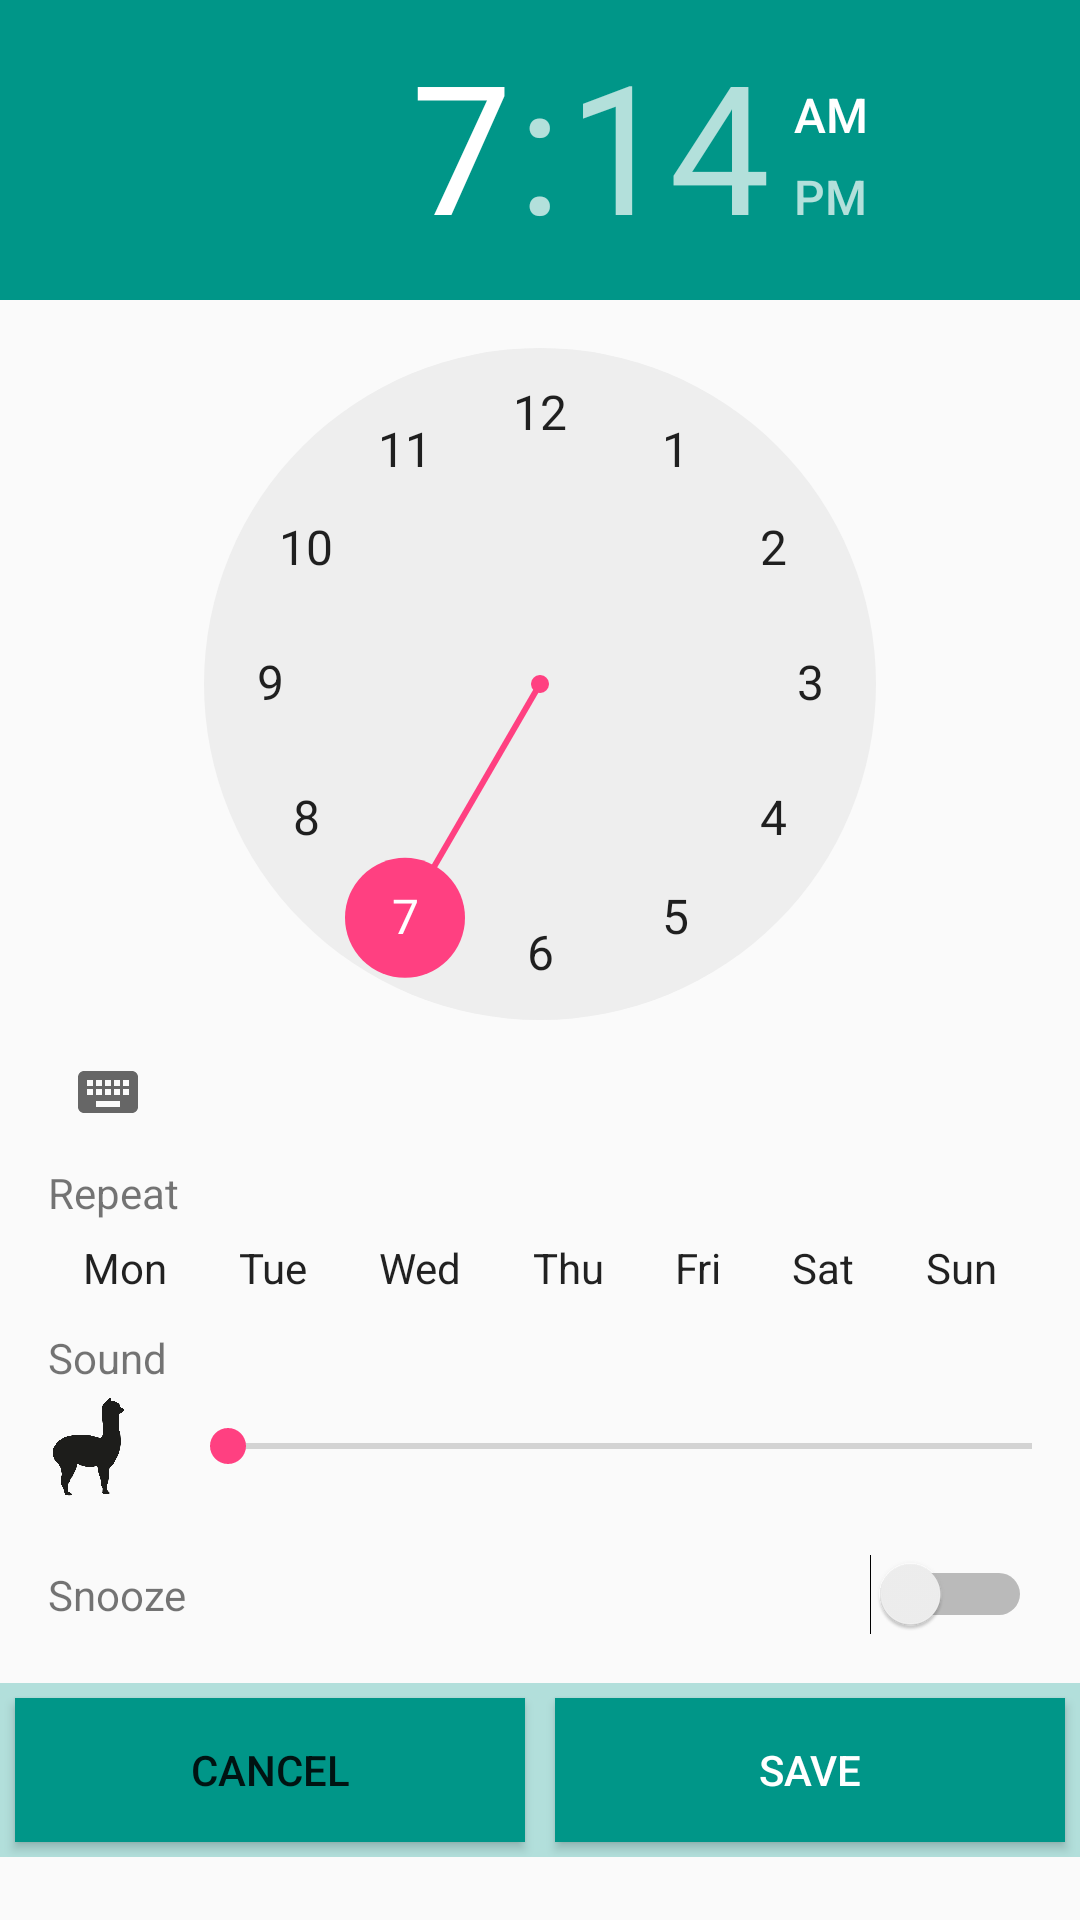

Named icons in this screenshot (1080px x 1920px) and their centers, point (x, y):
alpaca: point (88, 1447)
